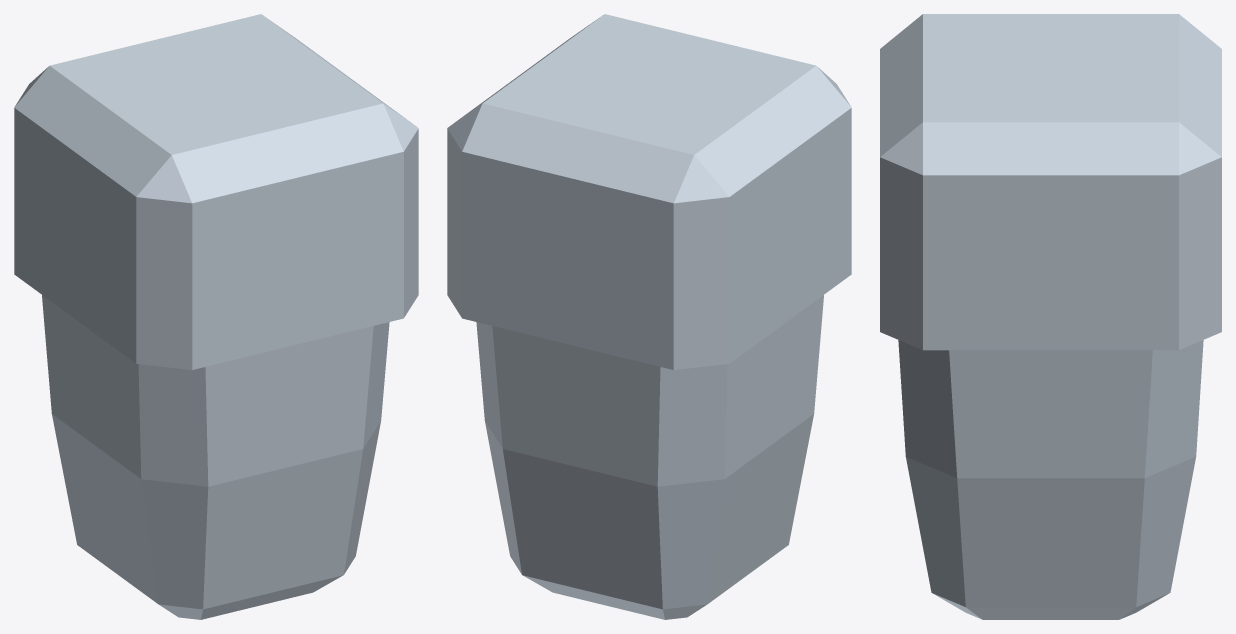
The model's file is Thigh.FBX.
3 renders of one model, left to right at view 1: azimuth 30°, elevation 25°; view 2: azimuth 150°, elevation 25°; view 3: azimuth 270°, elevation 25°, orthographic. The views are drawn at different scales.
Visible parts, largest first — view 1: VIFS001; view 2: VIFS001; view 3: VIFS001.
Part boxes in pixels (x1,y1,x2,y2): VIFS001: [14, 14, 418, 619]; VIFS001: [447, 14, 851, 619]; VIFS001: [880, 14, 1221, 619].
Size of the model in its own units: 0.319 by 0.531 by 0.319.
